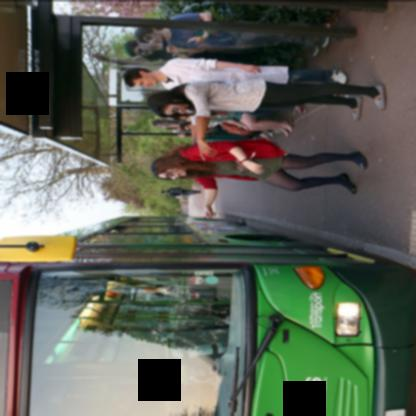backpack: (222, 122, 254, 135), (169, 187, 183, 192)
